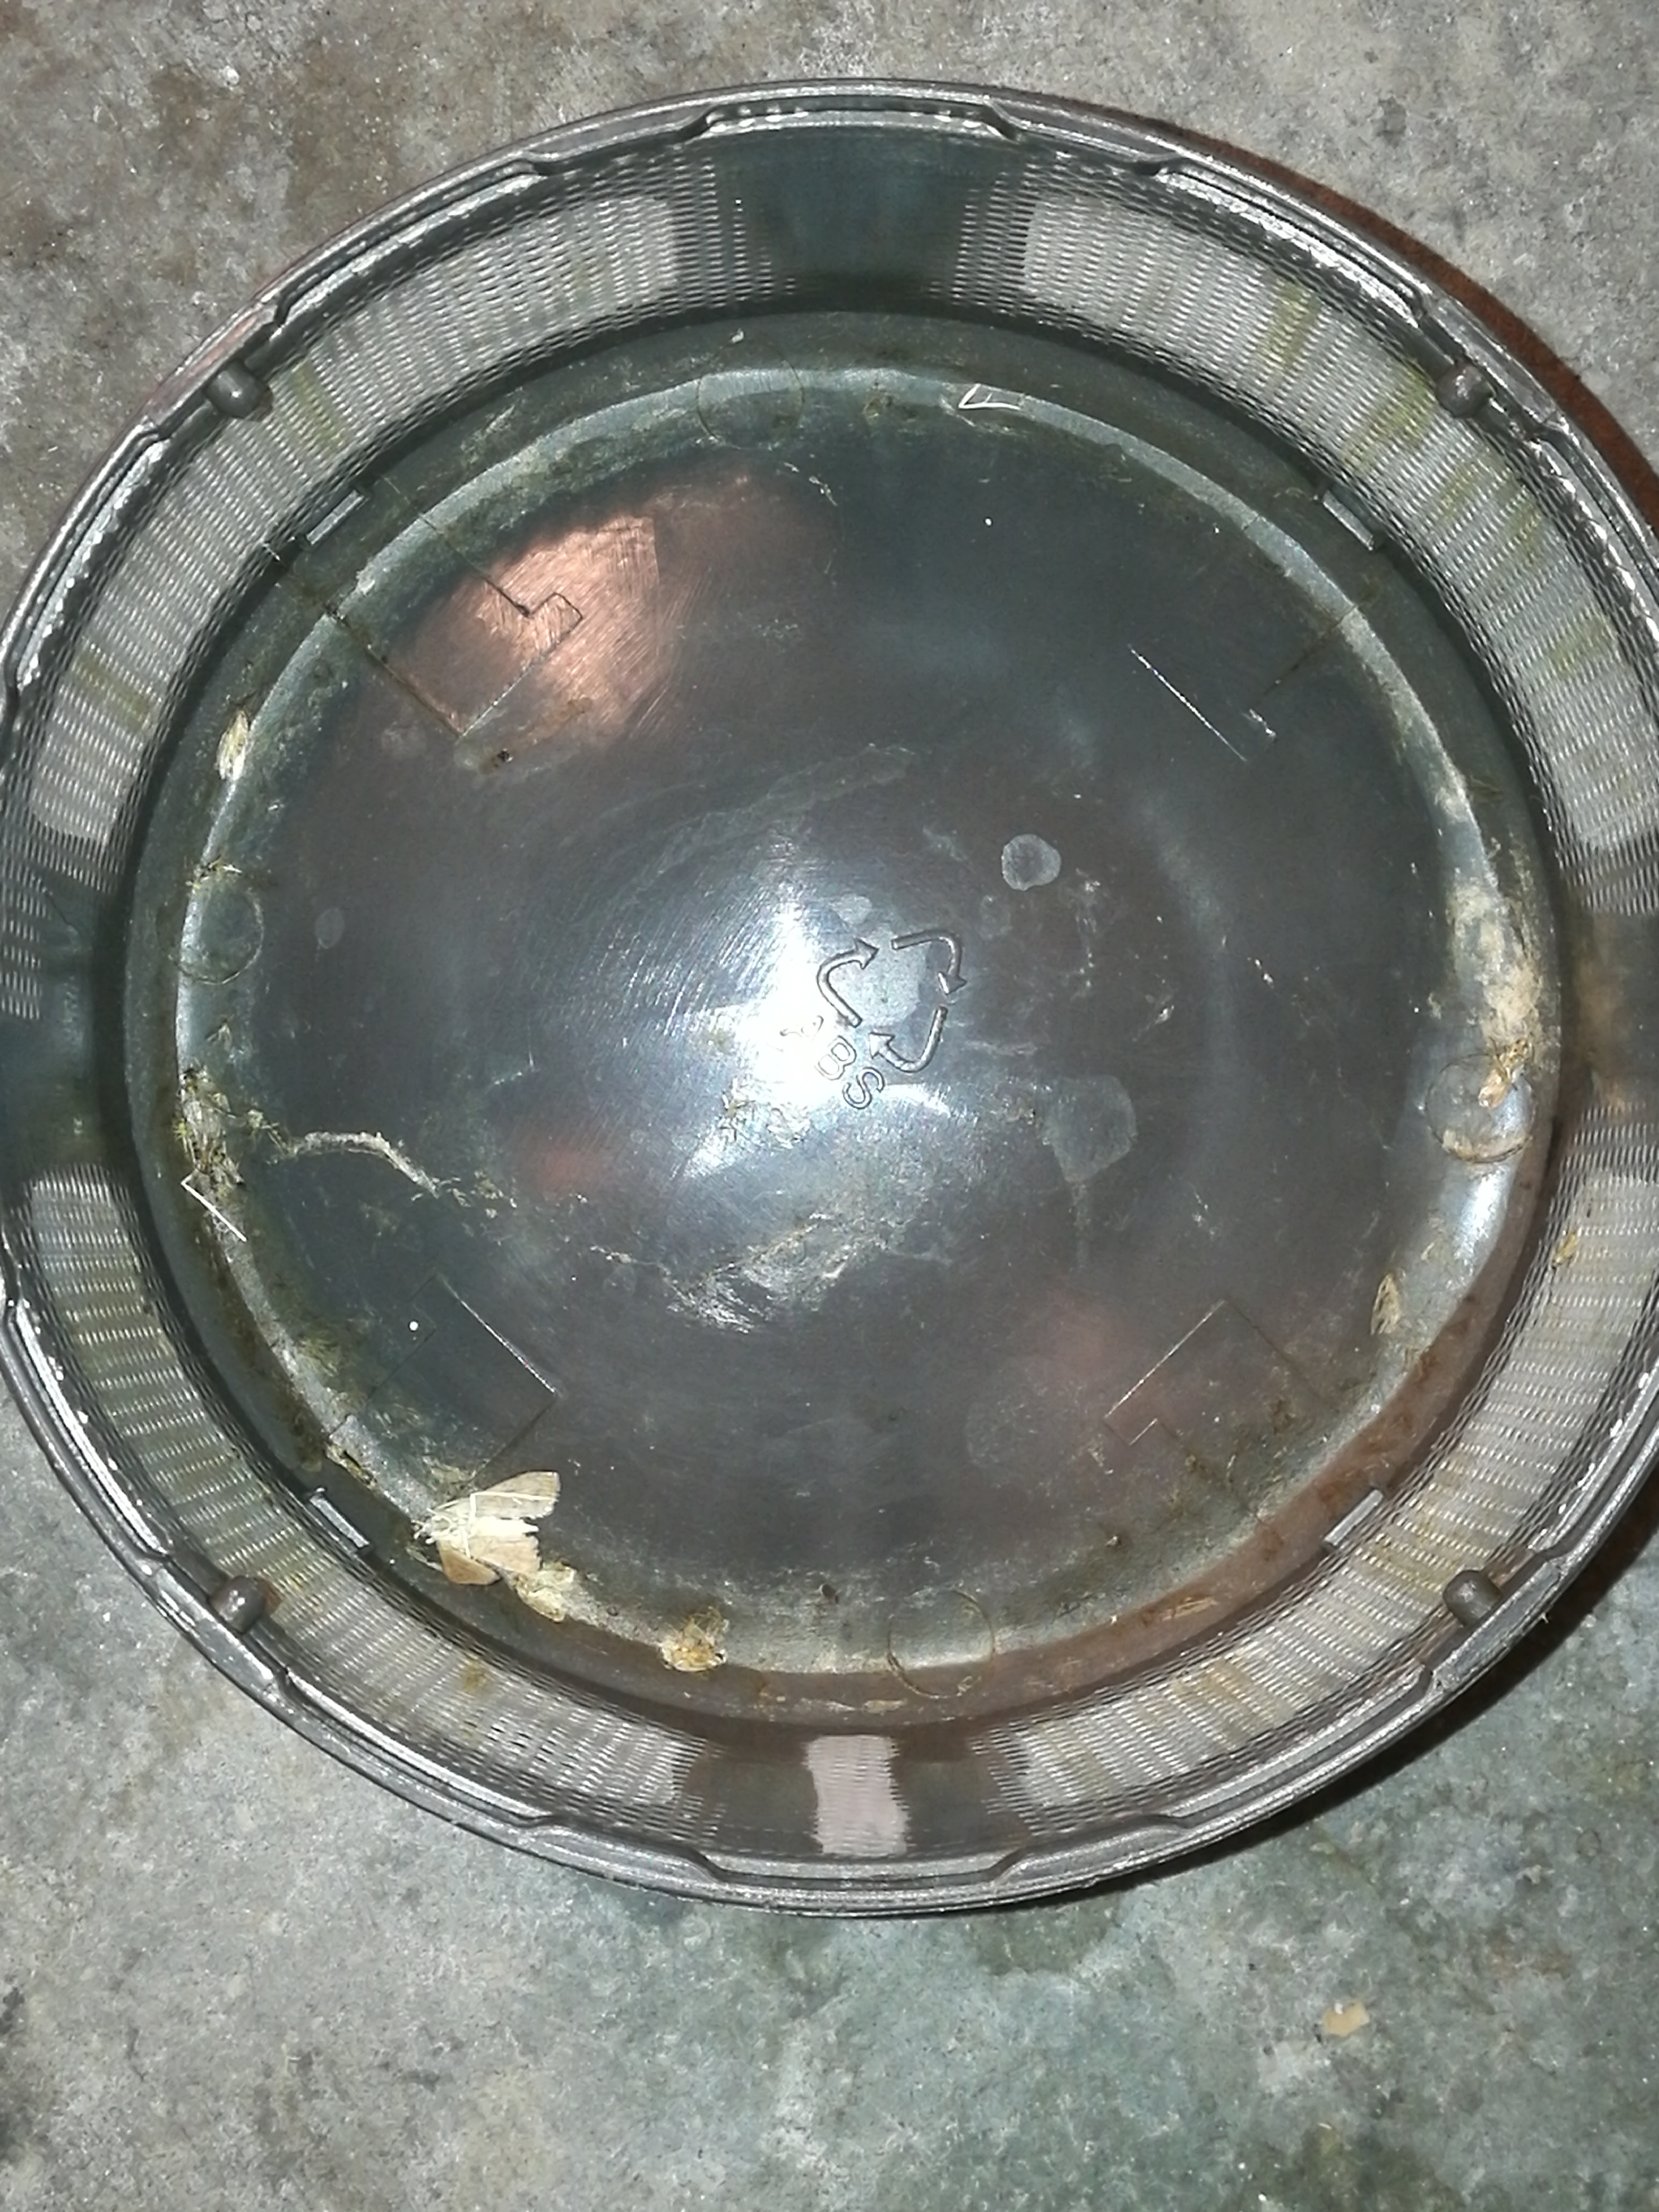mosquito: (1481, 1040, 1532, 1108), (216, 707, 246, 779)
moth: (420, 1472, 559, 1569), (504, 1564, 577, 1620), (662, 1623, 727, 1672)
